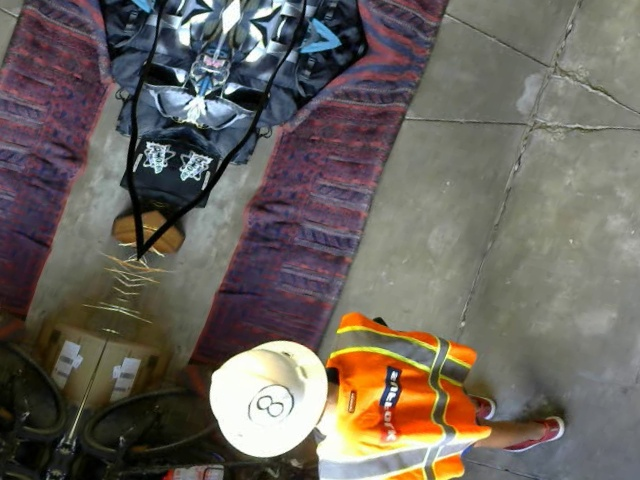eight: (239, 378, 298, 431)
